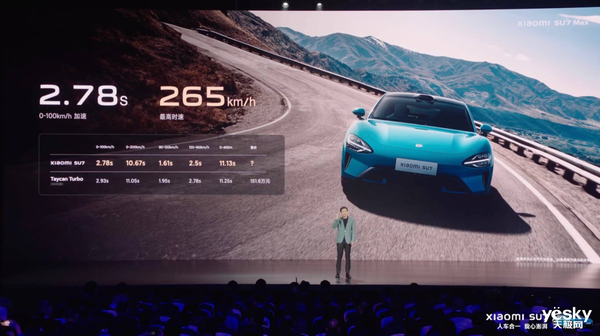su7: (336, 85, 499, 204)
